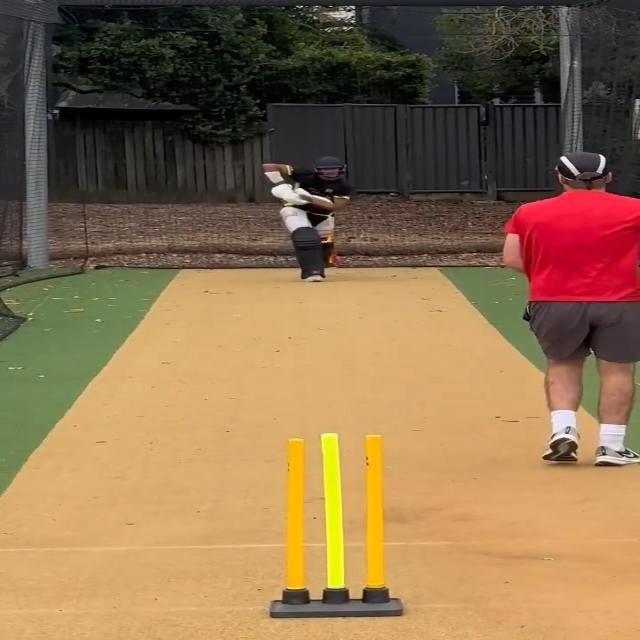stump: (264, 430, 411, 619)
